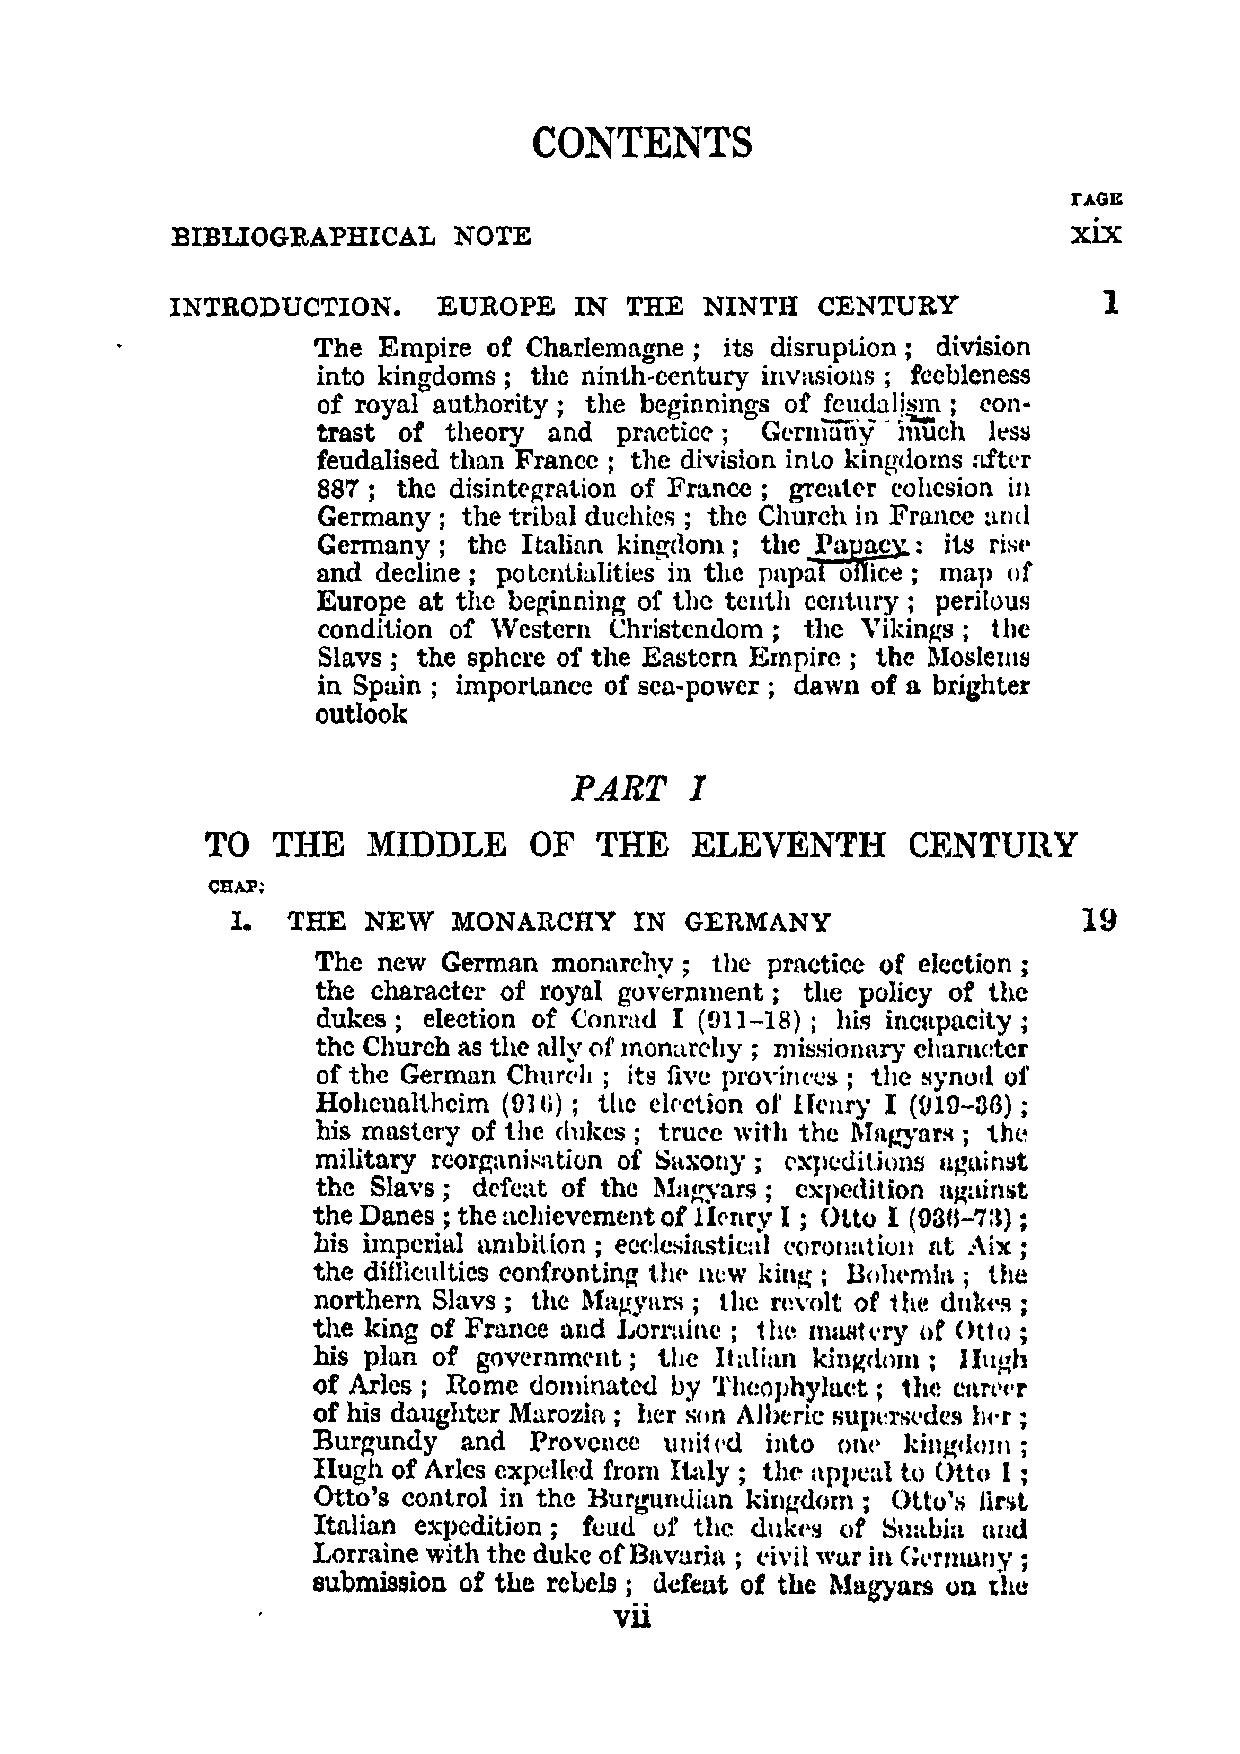TOC_chapter: (224, 905, 1033, 1601), (164, 289, 1037, 727), (197, 764, 1084, 868), (166, 213, 538, 260)
TOC_pagenumber: (1063, 217, 1133, 246), (1075, 902, 1122, 935), (1087, 279, 1127, 317)
chapter: (527, 107, 772, 161)
